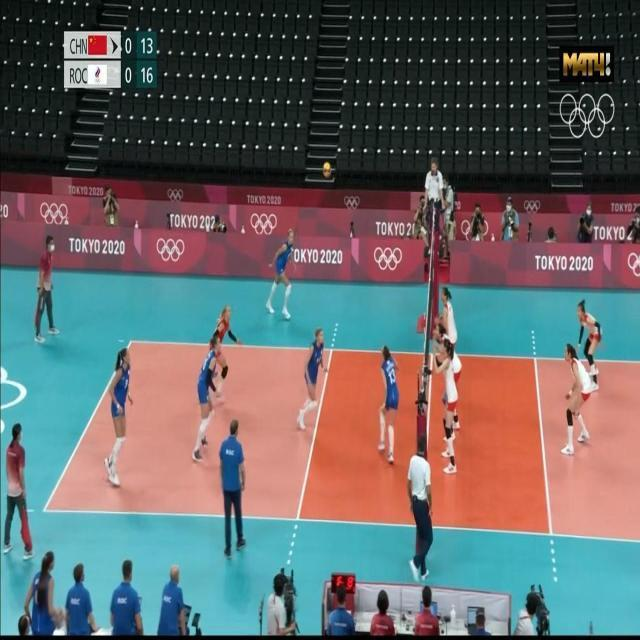volleyball: (322, 162, 332, 177)
